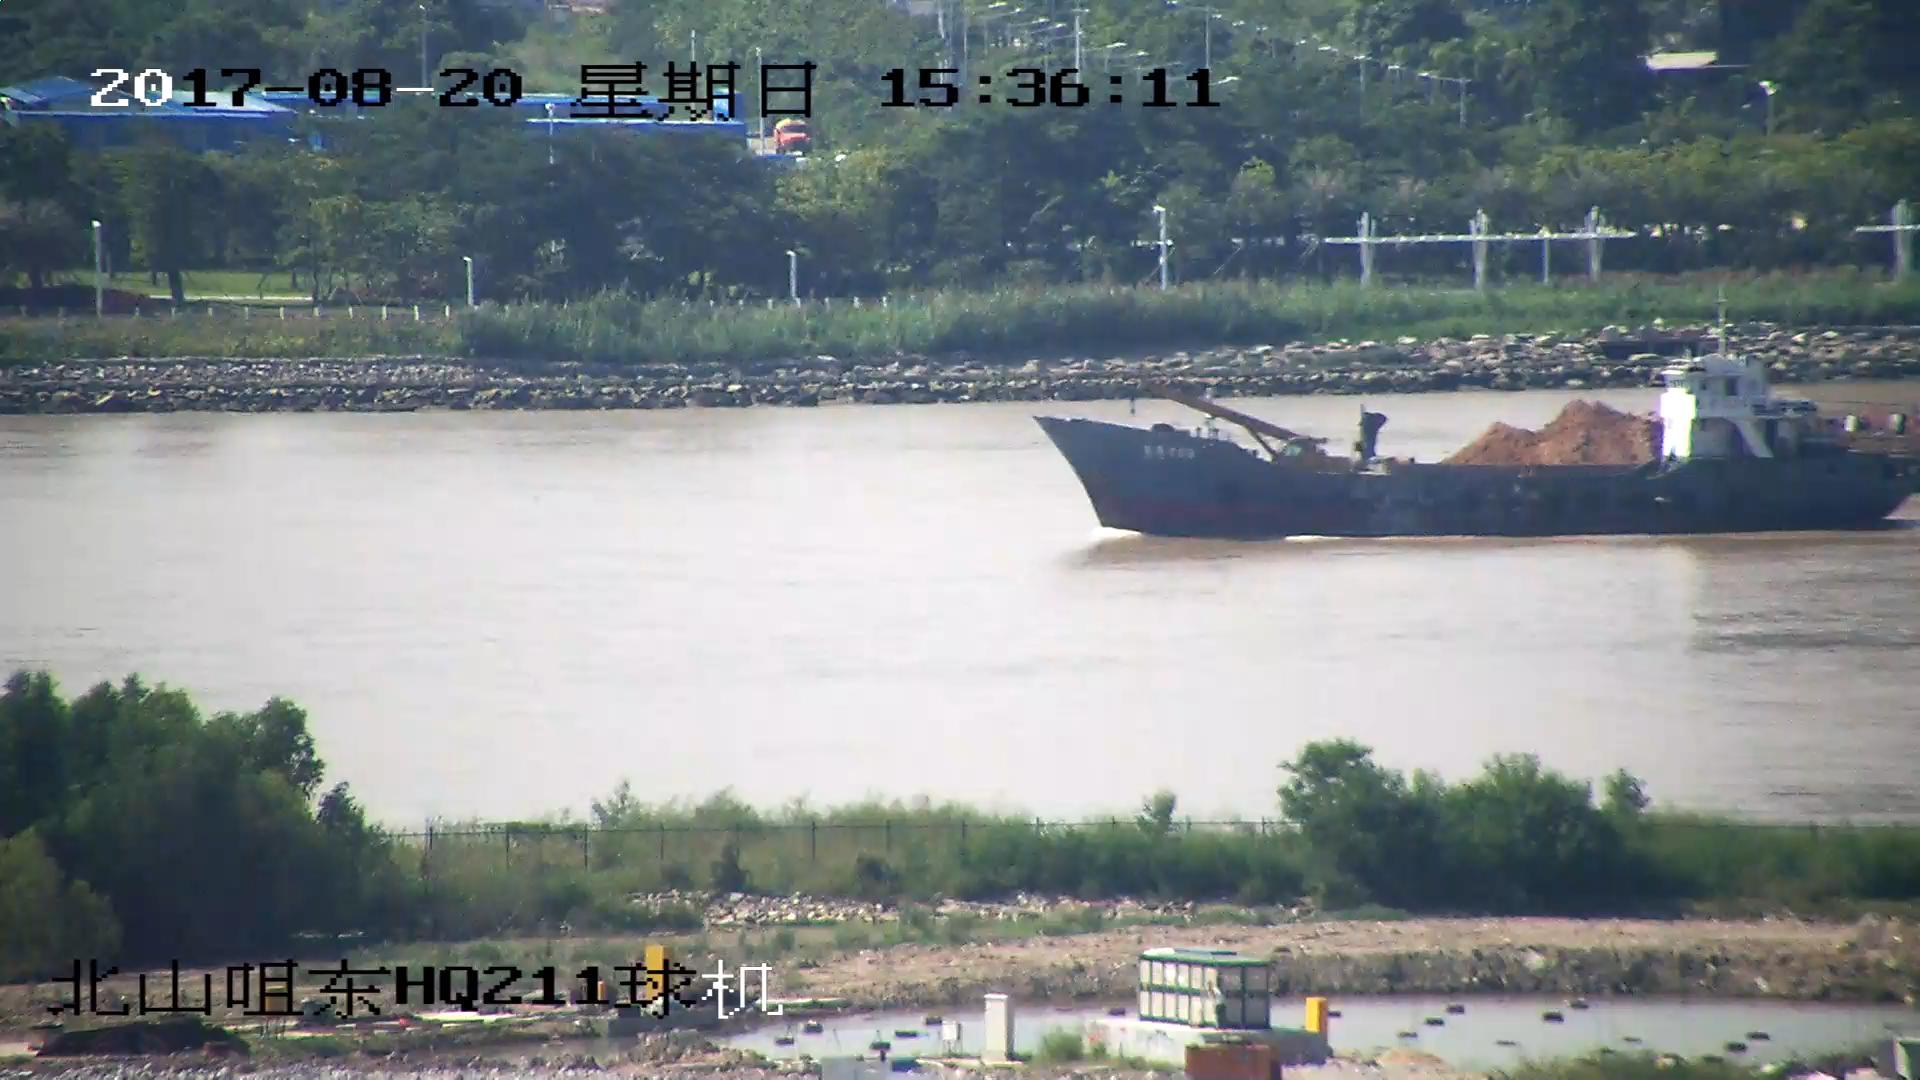Ship: (1040, 276, 1920, 537), (1234, 396, 1716, 485)
